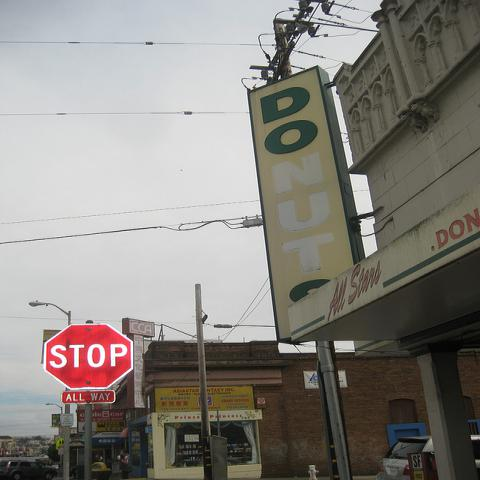car: (376, 434, 479, 479), (0, 460, 58, 480)
